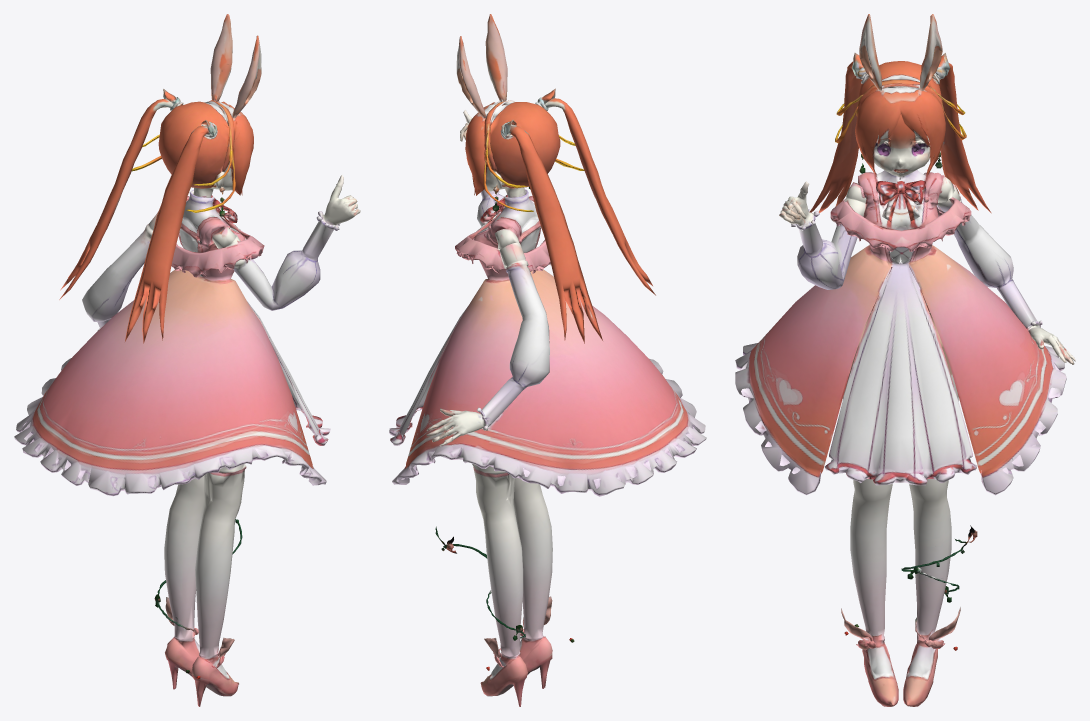
The picture shows the model from 3 angles, left to right: view 1: azimuth 30°, elevation 25°; view 2: azimuth 150°, elevation 25°; view 3: azimuth 270°, elevation 25°; orthographic projection. The views are drawn at different scales.
Parts seen in each view (by area): view 1: world; view 2: world; view 3: world.
Boxes of the visible parts, x1,y1,x2,y2 form: world: (14,14,360,706); world: (389,14,706,706); world: (735,14,1075,706).
Bounding box in the file's own units: 0.4434 × 0.998 × 0.4395.
Materials: 1 (1 with a texture image).
